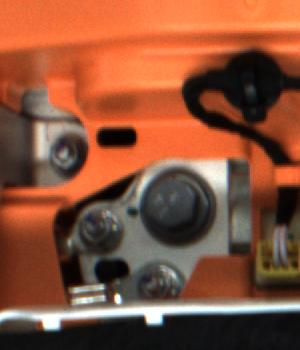screw_s: (73, 206, 125, 245), (134, 272, 172, 300), (48, 143, 84, 172)
